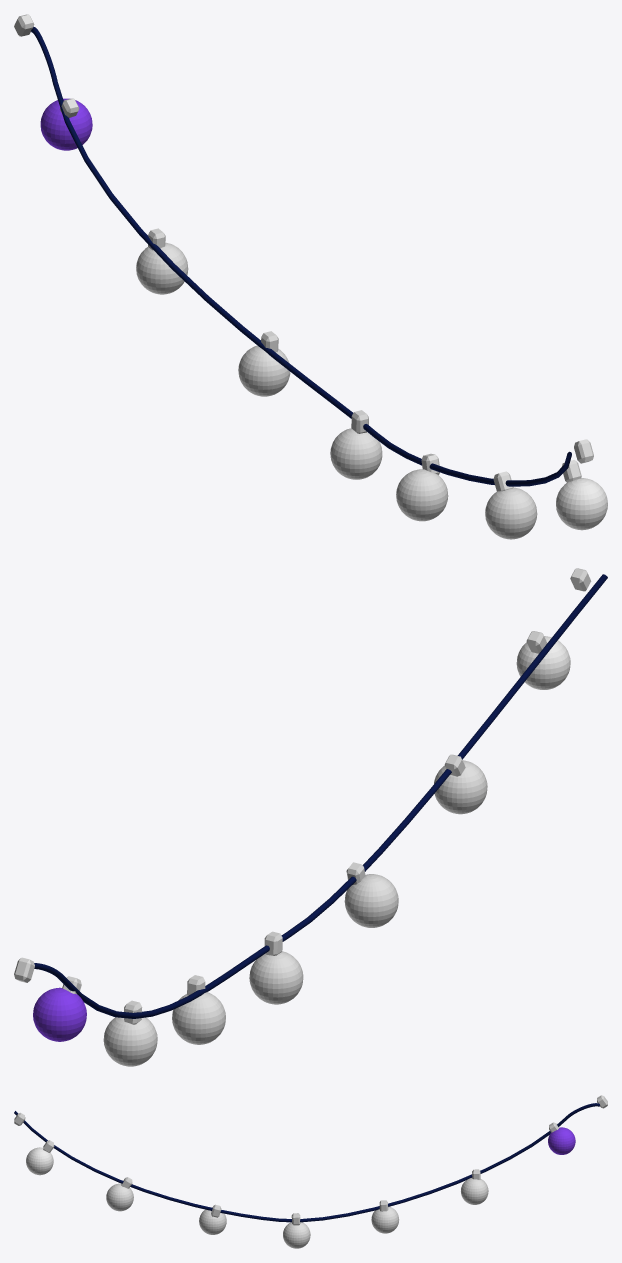
Rendered from string-lights.gltf.
The picture shows the model from 3 angles, top to bottom: view 1: azimuth 30°, elevation 25°; view 2: azimuth 150°, elevation 25°; view 3: azimuth 270°, elevation 25°; orthographic projection. The views are drawn at different scales.
Visible parts, largest first — view 1: string, lights-clip2, glass-bulb4, glass-bulb2, glass-bulb3, glass-bulb5, glass-bulb6, glass-bulb7, glass-bulb1; view 2: string, lights-clip2, glass-bulb1, glass-bulb5, glass-bulb4, glass-bulb6, glass-bulb7, glass-bulb3, glass-bulb2; view 3: string, lights-clip2, glass-bulb2, glass-bulb1, glass-bulb3, glass-bulb7, glass-bulb5, glass-bulb6, glass-bulb4.
Boxes of the visible parts, x1,y1,x2,y2 form: string: [31, 26, 571, 486]; lights-clip2: [14, 14, 593, 491]; glass-bulb4: [396, 469, 448, 521]; glass-bulb2: [556, 478, 607, 530]; glass-bulb3: [485, 487, 537, 539]; glass-bulb5: [330, 428, 382, 479]; glass-bulb6: [238, 345, 290, 396]; glass-bulb7: [136, 242, 188, 294]; glass-bulb1: [40, 98, 92, 150]; string: [34, 574, 607, 1018]; lights-clip2: [14, 568, 591, 1024]; glass-bulb1: [33, 987, 86, 1041]; glass-bulb5: [249, 951, 303, 1004]; glass-bulb4: [344, 874, 398, 927]; glass-bulb6: [172, 992, 225, 1044]; glass-bulb7: [103, 1017, 157, 1066]; glass-bulb3: [434, 760, 487, 814]; glass-bulb2: [516, 636, 570, 689]; string: [14, 1103, 599, 1222]; lights-clip2: [14, 1095, 607, 1225]; glass-bulb2: [26, 1147, 53, 1175]; glass-bulb1: [548, 1127, 575, 1154]; glass-bulb3: [106, 1183, 133, 1211]; glass-bulb7: [461, 1178, 488, 1204]; glass-bulb5: [283, 1222, 310, 1248]; glass-bulb6: [371, 1206, 399, 1233]; glass-bulb4: [199, 1207, 226, 1234].
Size of the model in its own units: 0.151 by 0.4425 by 1.71.
